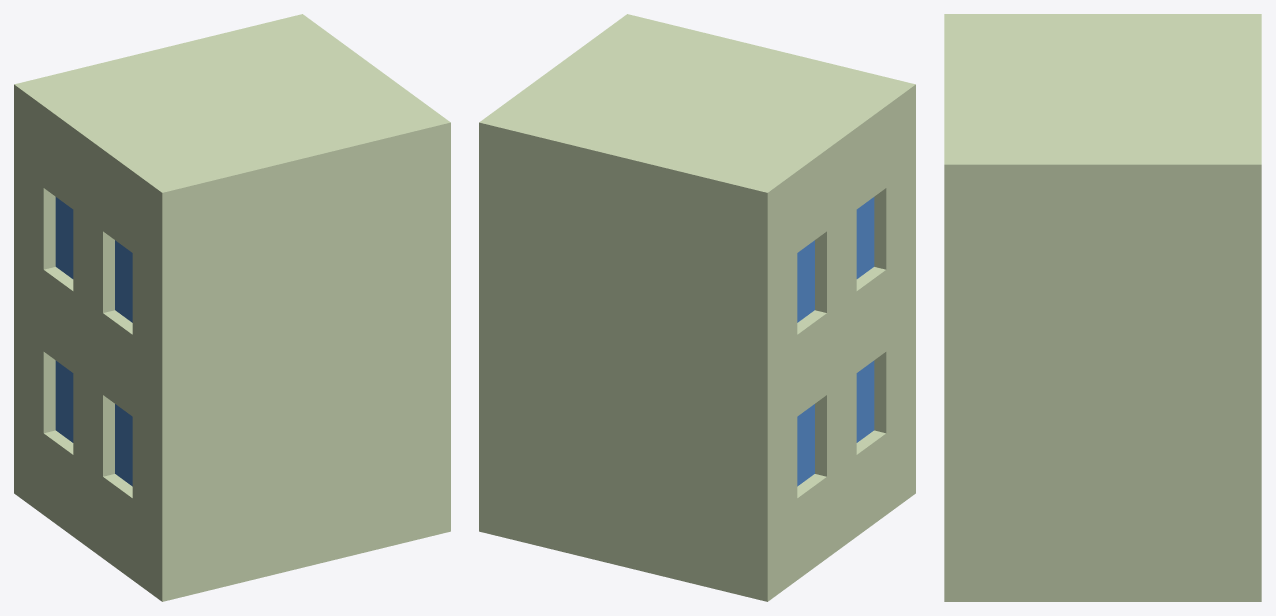
The model's file is edificio.fbx.
The picture shows the model from 3 angles, left to right: view 1: azimuth 30°, elevation 25°; view 2: azimuth 150°, elevation 25°; view 3: azimuth 270°, elevation 25°; orthographic projection. The views are drawn at different scales.
Parts seen in each view (by area): view 1: Cube; view 2: Cube; view 3: Cube.
Boxes of the visible parts, x1,y1,x2,y2 form: Cube: (14,14,450,601); Cube: (479,14,915,601); Cube: (944,14,1261,601).
Bounding box in the file's own units: 511 × 692 × 455.
